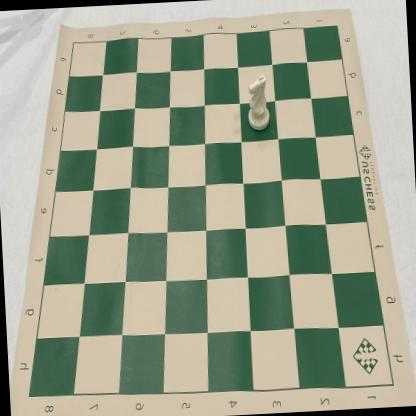white-knight: (244, 74, 270, 132)
